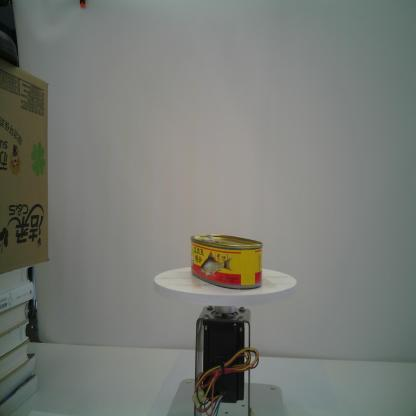Canned Food: (190, 233, 264, 292)
